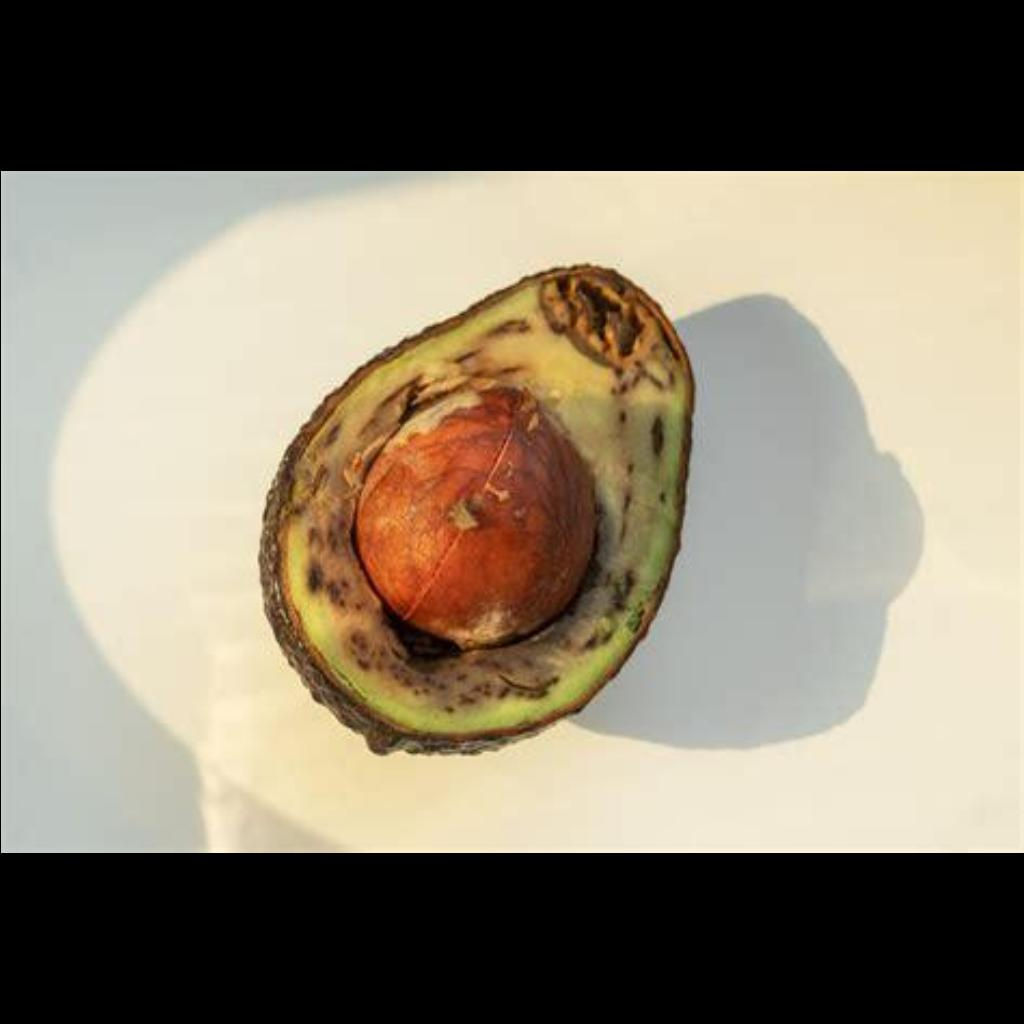antracnosis_fruto: (262, 257, 701, 763)
